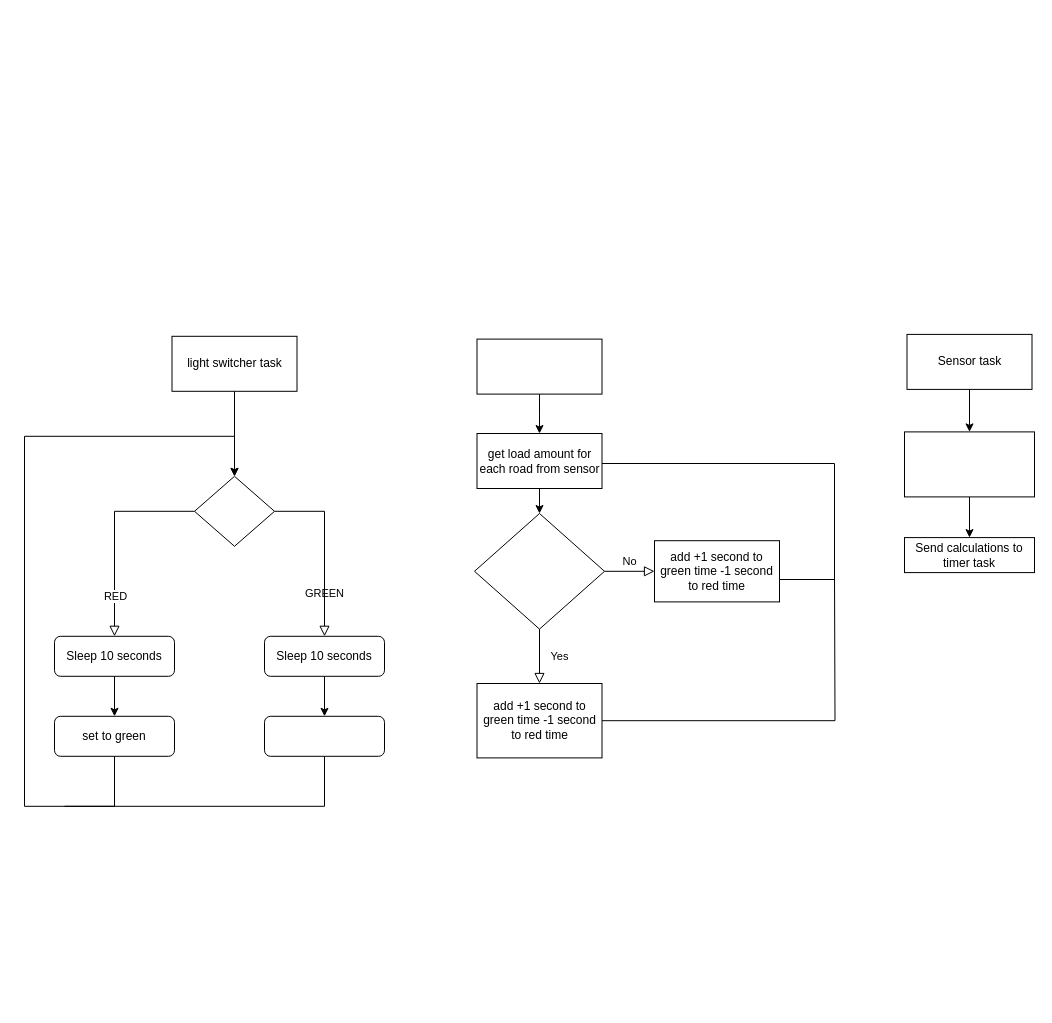
This 1052x1023 diagram has some shape labels left out. The shapes that lost their labels are listed below. From the top down, each one's centre as x and y in pixels, then its label:
At (x=539, y=366): "Timer task".
At (x=969, y=464): "each 2 seconds for 30 second, calculate cars still waiting to pass".
At (x=234, y=510): "current light color?".
At (x=539, y=570): "vertical road load is more?".
At (x=324, y=735): "set to red".
